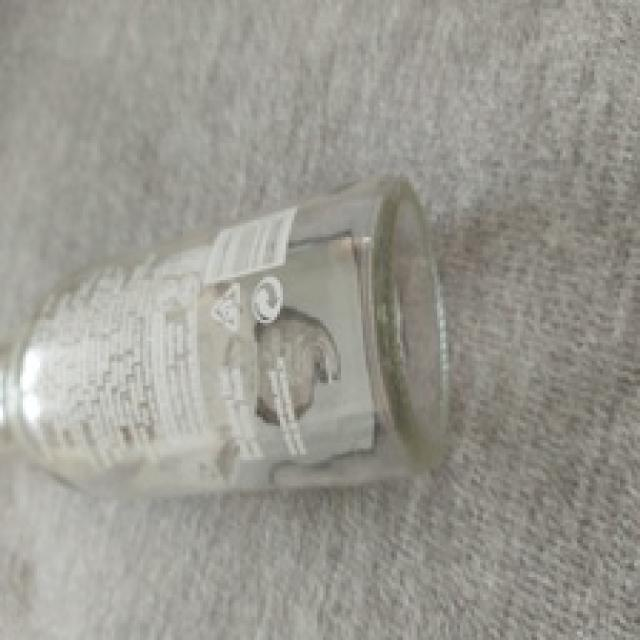Glass: (0, 175, 456, 504)
